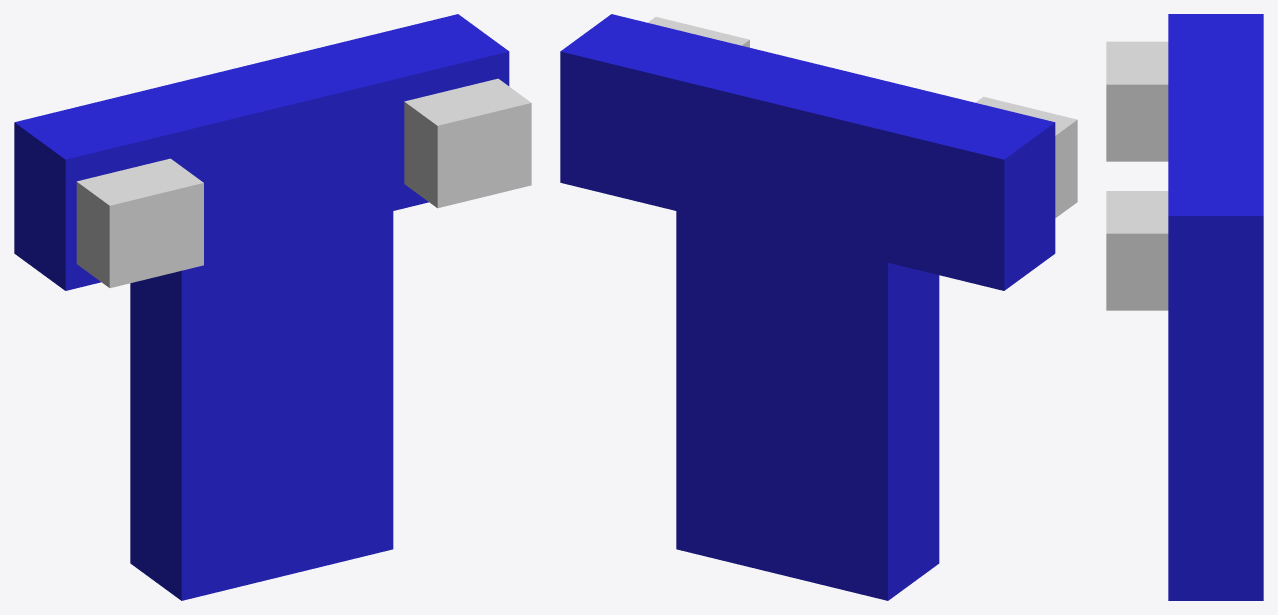
The model's file is sensor.dae.
3 renders of one model, left to right at view 1: azimuth 30°, elevation 25°; view 2: azimuth 150°, elevation 25°; view 3: azimuth 270°, elevation 25°, orthographic. The views are drawn at different scales.
Parts seen in each view (by area): view 1: Cube.015; view 2: Cube.015; view 3: Cube.015.
Boxes of the visible parts, x1=… form: Cube.015: x1=14, y1=14, x2=531, y2=600; Cube.015: x1=560, y1=14, x2=1077, y2=600; Cube.015: x1=1106, y1=14, x2=1263, y2=600.
Bounding box in the file's own units: 0.1564 × 0.0515 × 0.1582.
